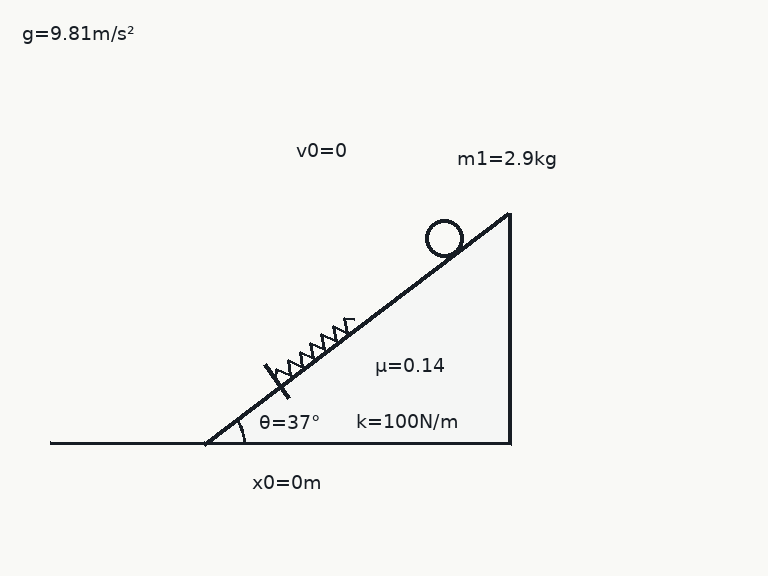ball: (423, 217, 465, 259)
ramp: (202, 211, 511, 445)
spring: (273, 315, 356, 380)
